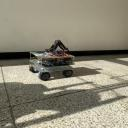cart: (30, 52, 75, 80)
